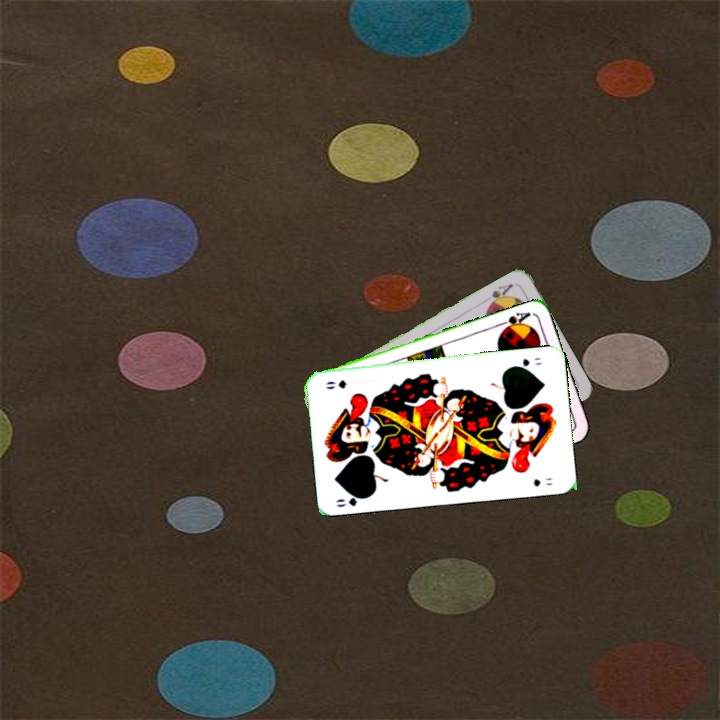GO: (332, 489, 372, 510), (509, 353, 544, 371)
SA: (484, 279, 516, 310), (496, 308, 533, 334)
